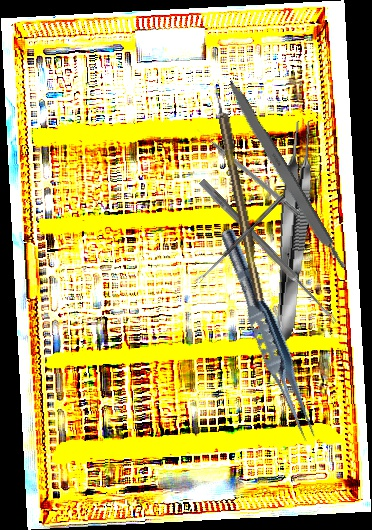Hook Surgical: (212, 83, 265, 303)
Pusher: (195, 126, 302, 217)
Scalpel Handle: (222, 78, 348, 273)
Surgical Spoon: (197, 178, 340, 325), (195, 193, 286, 284)
Tissue Forceps: (210, 225, 326, 446), (268, 118, 319, 343)
